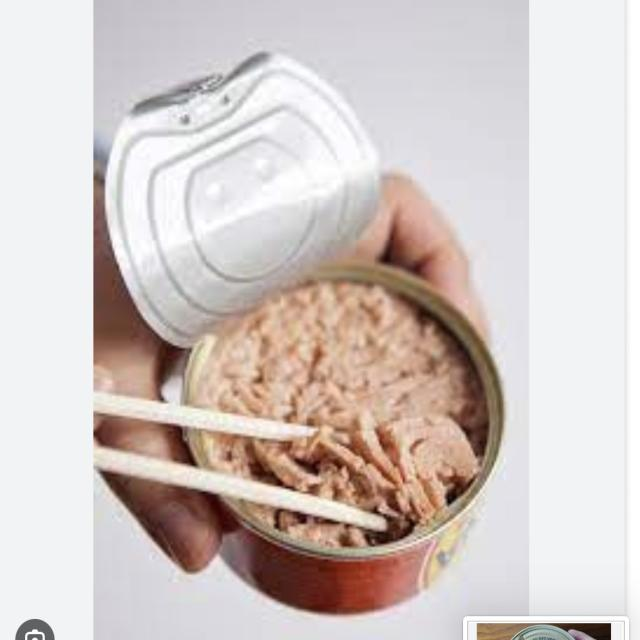recyclable: (102, 52, 394, 328)
